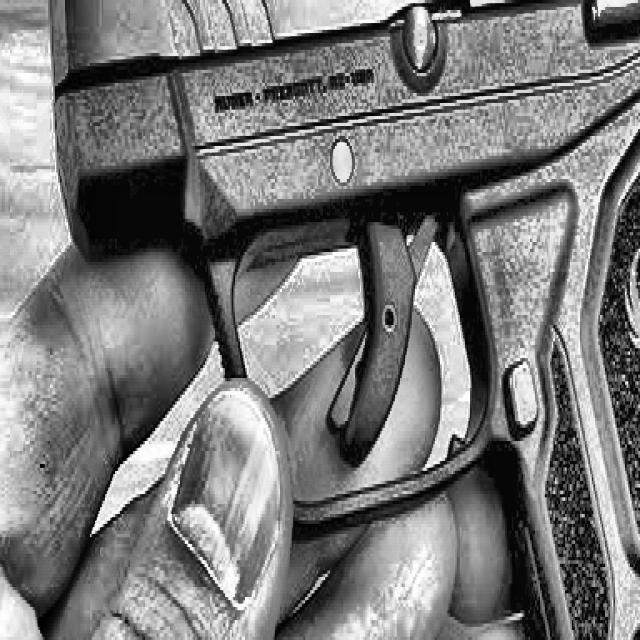Ruger: (43, 0, 640, 640)
